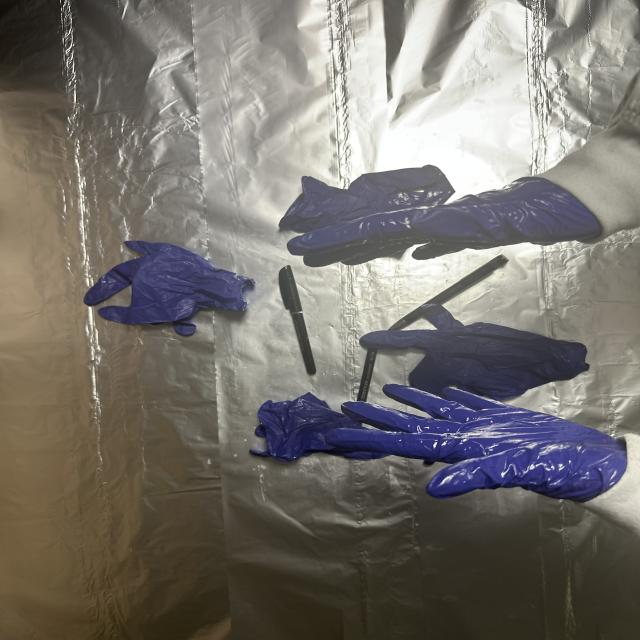gloves_contaminated: (330, 384, 630, 502), (289, 178, 602, 266)
